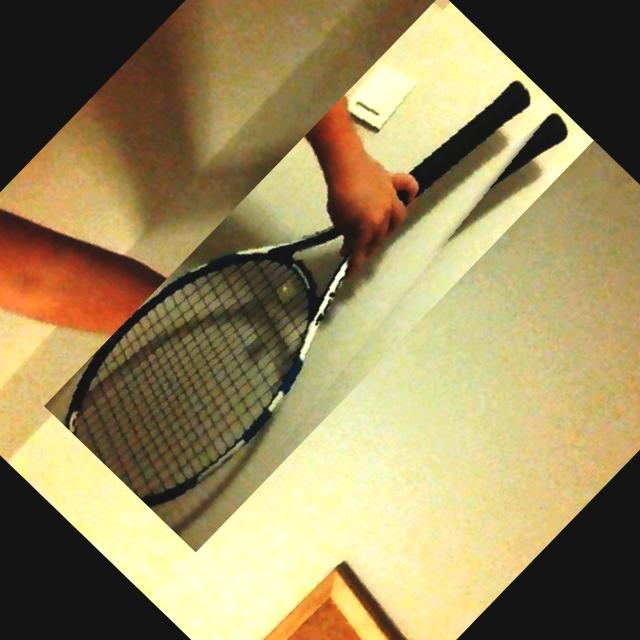TennisRacket: (43, 0, 593, 551)
